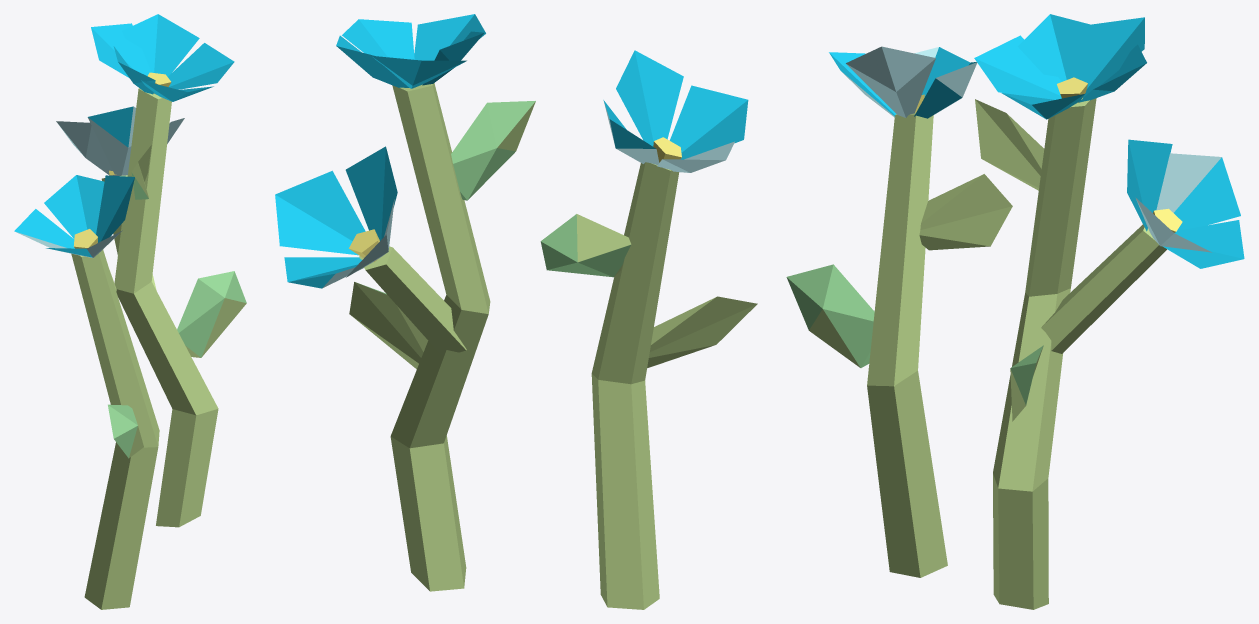
The model's file is SaffyBlue.fbx.
3 views of the same model, side by side, from view 1: azimuth 30°, elevation 25°; view 2: azimuth 150°, elevation 25°; view 3: azimuth 270°, elevation 25° (orthographic). The views are drawn at different scales.
Visible parts, largest first — view 1: group1355472059, group1328121934; view 2: group1355472059, group1328121934; view 3: group1355472059, group1328121934.
Boxes of the visible parts, x1,y1,x2,y2 form: group1355472059: [56, 14, 246, 527]; group1328121934: [14, 175, 159, 609]; group1355472059: [275, 14, 535, 591]; group1328121934: [540, 50, 757, 609]; group1355472059: [974, 14, 1244, 609]; group1328121934: [786, 46, 1012, 577].
Size of the model in its own units: 67.42 by 117 by 81.76.
